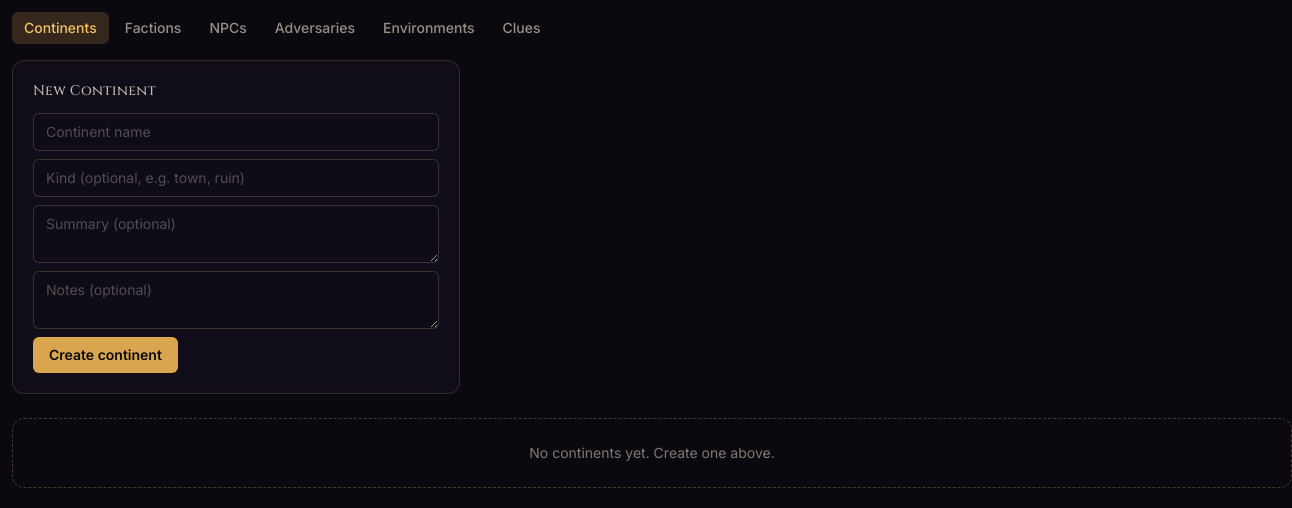
Scenario: LibraryPage › Clues tab › lists existing clues under their revelation heading
Click the button "Clues".
click(522, 28)  # box x1=491 y1=12 x2=553 y2=44
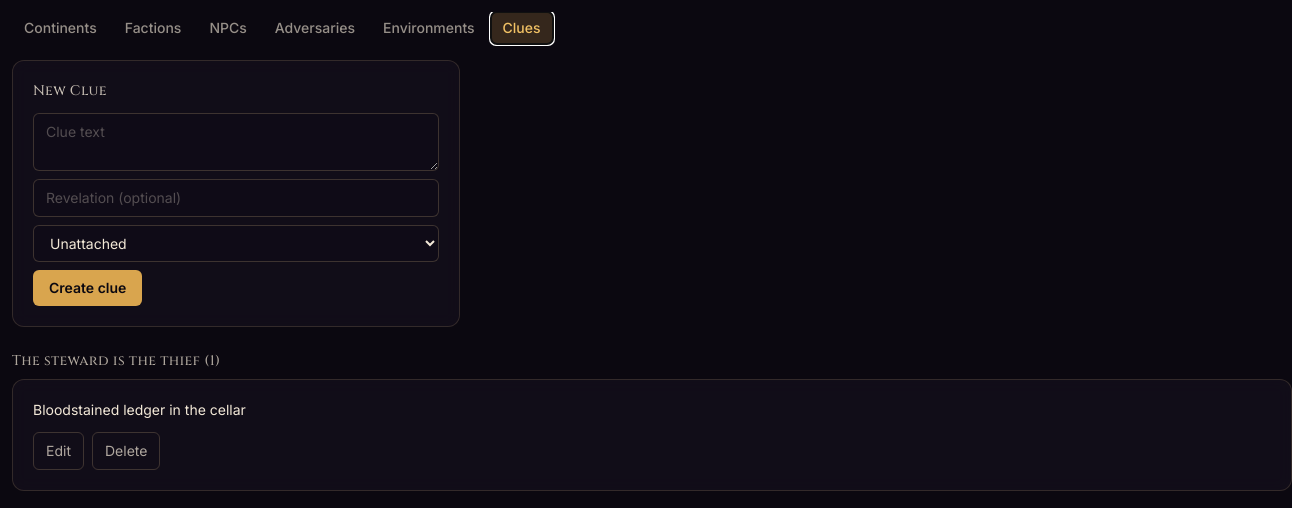
Expected: the text "Bloodstained ledger in the cellar" is shown, x1=33 y1=401 x2=246 y2=418
Expected: the heading "The steward is the thief (1)" is shown, x1=12 y1=351 x2=220 y2=370
